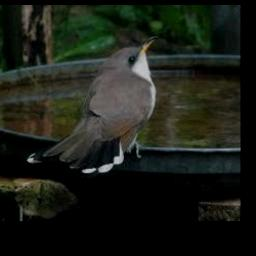Cuckoo: (27, 35, 161, 173)
